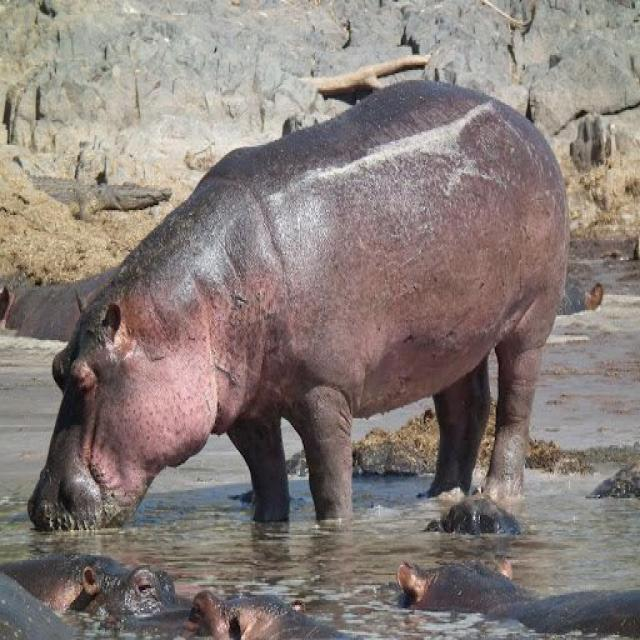Hippopotamus: (30, 75, 575, 542)
